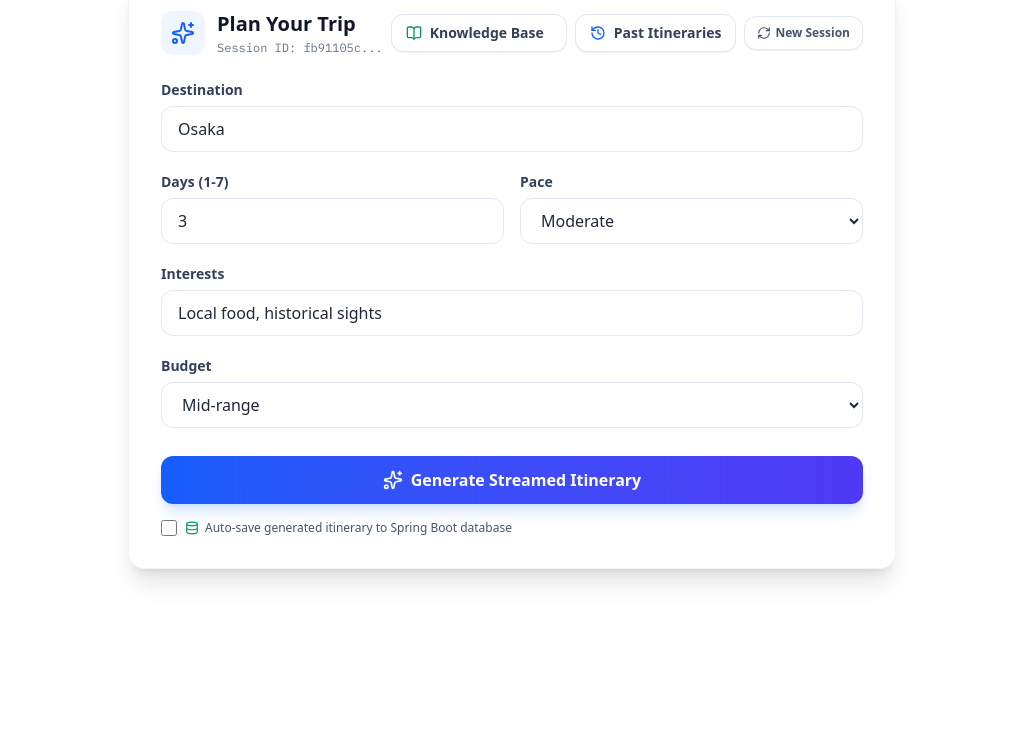
ItineraryForm Component › Auto-save & Manual DB Save Handlers › displays error message if auto-save to database fails
Click the checkbox labelled "Auto-save generated itinerary to Spring Boot database" at (169, 528), box left=161, top=520, right=177, bottom=536
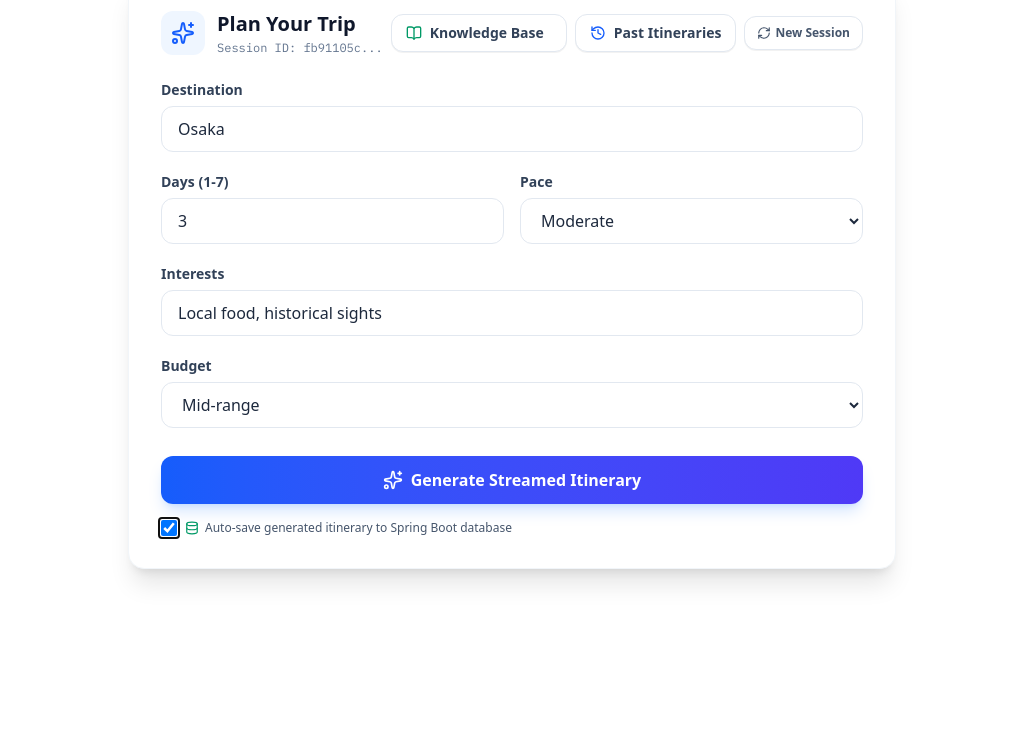
Click the button "Generate Streamed Itinerary" at (512, 480), box left=161, top=456, right=863, bottom=504
(page scrolled)
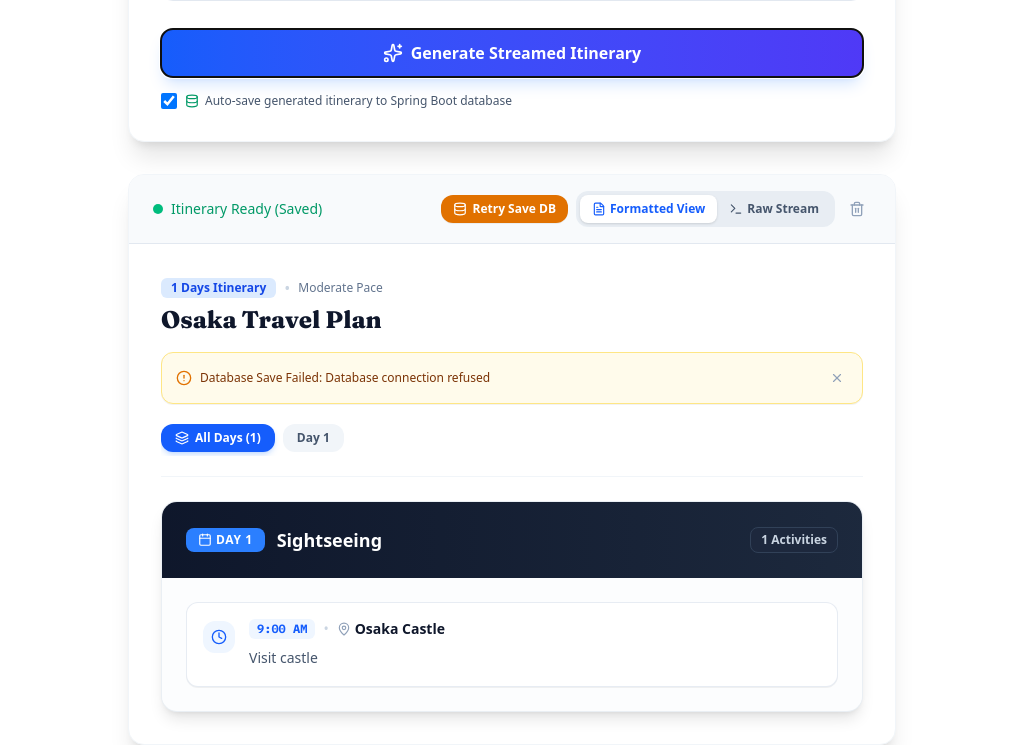
Result: the text "Database Save Failed: Database connection refused" is shown at left=200, top=370, right=490, bottom=386
